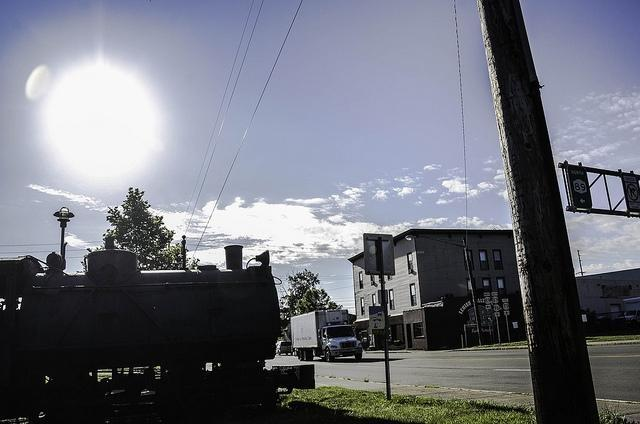truck: (290, 308, 364, 362)
